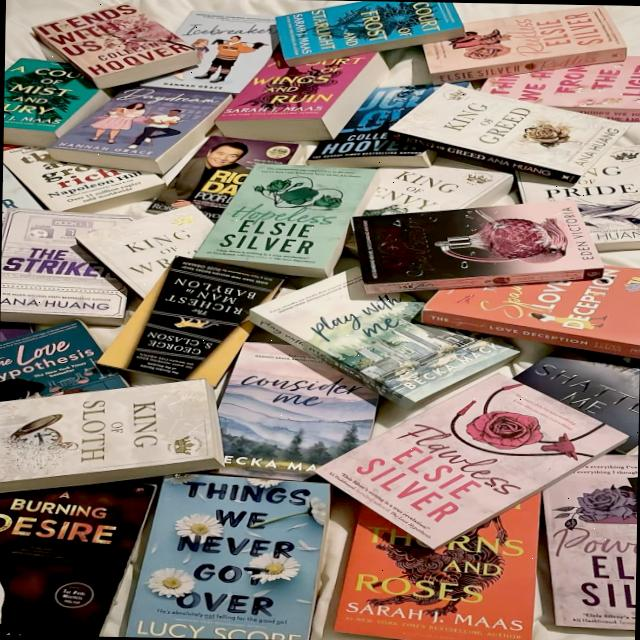book: (328, 374, 636, 548), (393, 82, 627, 174), (0, 385, 206, 484), (194, 168, 369, 269), (42, 0, 189, 74)
